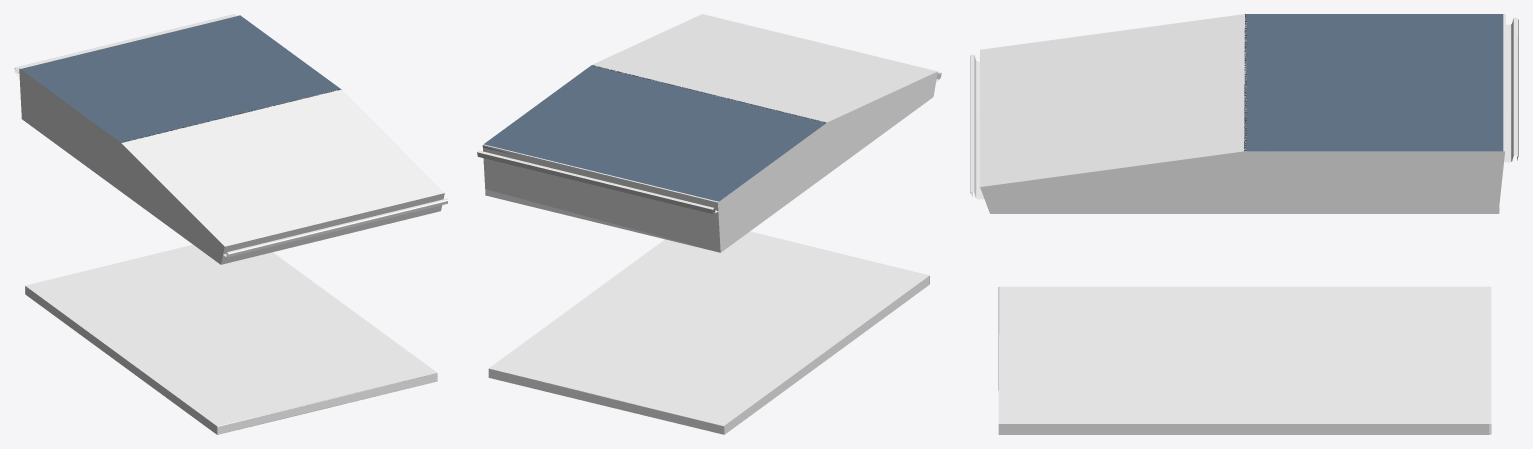
File: si_res_body_roof_sloped_4m.dae
The picture shows the model from 3 angles, left to right: view 1: azimuth 30°, elevation 25°; view 2: azimuth 150°, elevation 25°; view 3: azimuth 270°, elevation 25°; orthographic projection. The views are drawn at different scales.
Parts seen in each view (by area): view 1: si_res_body_roof_sloped_4m_a500, Colmesh-1, si_res_body_roof_sloped_4m_a200; view 2: si_res_body_roof_sloped_4m_a500, si_res_body_roof_sloped_4m_a200, Colmesh-1; view 3: si_res_body_roof_sloped_4m_a500, Colmesh-1, si_res_body_roof_sloped_4m_a200.
Part boxes in pixels (x1,y1,x2,y2): si_res_body_roof_sloped_4m_a500: (14, 14, 448, 434); Colmesh-1: (19, 15, 444, 434); si_res_body_roof_sloped_4m_a200: (14, 14, 447, 433); si_res_body_roof_sloped_4m_a500: (478, 65, 941, 434); si_res_body_roof_sloped_4m_a200: (477, 73, 941, 434); Colmesh-1: (482, 14, 937, 434); si_res_body_roof_sloped_4m_a500: (970, 14, 1517, 434); Colmesh-1: (980, 14, 1505, 434); si_res_body_roof_sloped_4m_a200: (971, 19, 1518, 434).
Size of the model in its own units: 4 by 6.75 by 3.85.
